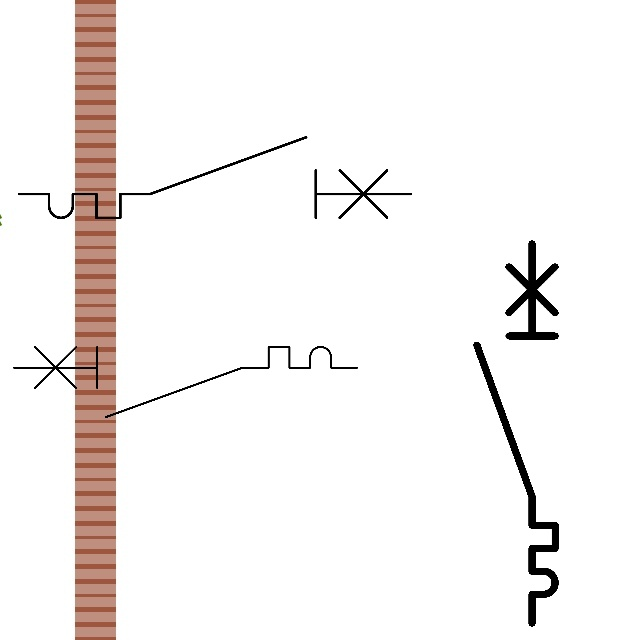interruptor_termomagnetico: (9, 127, 421, 228), (467, 234, 565, 633), (5, 338, 366, 426)
